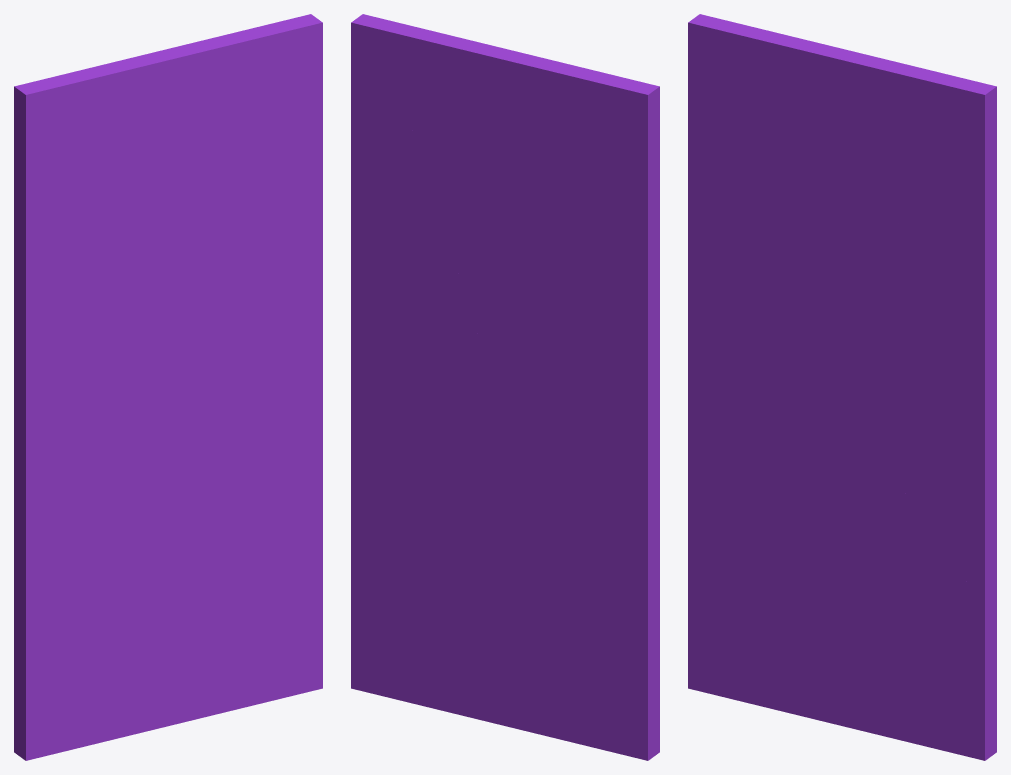
File: Glass_62_chunks.fbx
The picture shows the model from 3 angles, left to right: view 1: azimuth 30°, elevation 25°; view 2: azimuth 150°, elevation 25°; view 3: azimuth 330°, elevation 25°; orthographic projection.
Parts seen in each view (by area): view 1: Glass_62_1, Glass_62_2, Glass_62_4, Glass_62_3, Glass_62_0, Glass_62_5, Glass_62_6; view 2: Glass_62_1, Glass_62_2, Glass_62_4, Glass_62_3, Glass_62_5, Glass_62_6; view 3: Glass_62_1, Glass_62_2, Glass_62_4, Glass_62_3, Glass_62_5, Glass_62_0, Glass_62_6.
Boxes of the visible parts, x1,y1,x2,y2 form: Glass_62_1: (14,403,322,760); Glass_62_2: (14,21,288,452); Glass_62_4: (180,272,322,535); Glass_62_3: (226,14,322,273); Glass_62_0: (47,364,183,443); Glass_62_5: (274,235,322,328); Glass_62_6: (195,224,248,319); Glass_62_1: (351,392,659,760); Glass_62_2: (379,22,659,454); Glass_62_4: (351,287,496,529); Glass_62_3: (351,14,435,252); Glass_62_5: (351,204,419,365); Glass_62_6: (411,202,480,340); Glass_62_1: (688,380,996,760); Glass_62_2: (688,14,967,381); Glass_62_4: (843,309,996,607); Glass_62_3: (888,79,996,321); Glass_62_5: (937,268,996,429); Glass_62_0: (708,366,845,407); Glass_62_6: (857,249,910,329).
Bounding box in the file's own units: 398 × 852 × 27.2.
